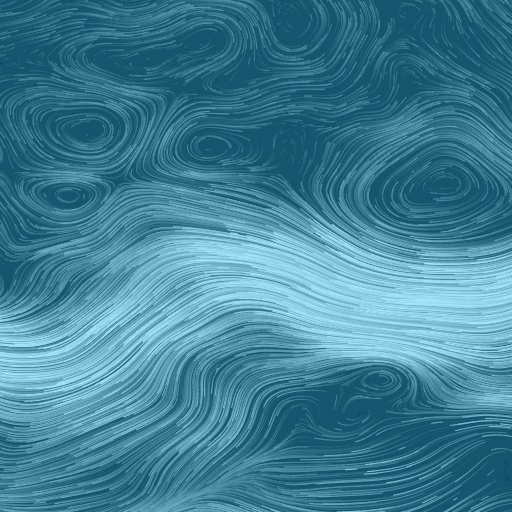eddy: (371, 123, 509, 239), (88, 16, 228, 81), (33, 89, 138, 172), (171, 120, 252, 172), (30, 175, 108, 219), (363, 370, 400, 392)
